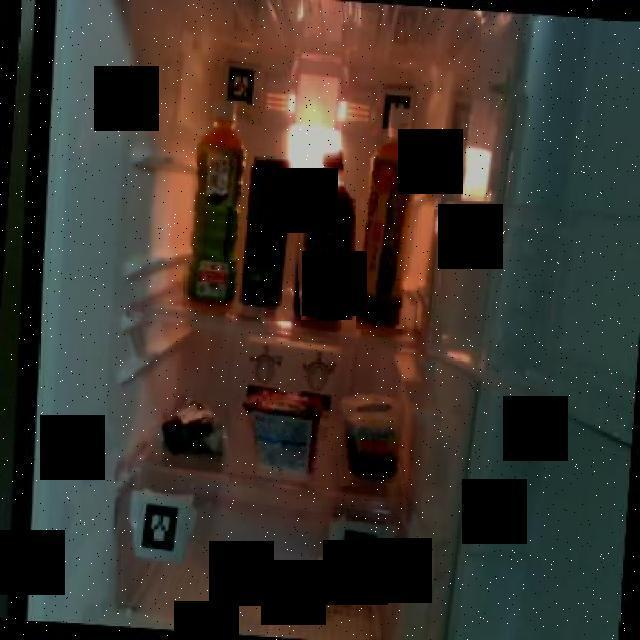bottle: (182, 99, 248, 310), (356, 129, 424, 329)
can: (237, 152, 292, 310)
coffee: (290, 137, 358, 320)
pudding: (332, 386, 406, 486)
rice_ball: (154, 388, 229, 466)
yogurt: (238, 391, 320, 483)
